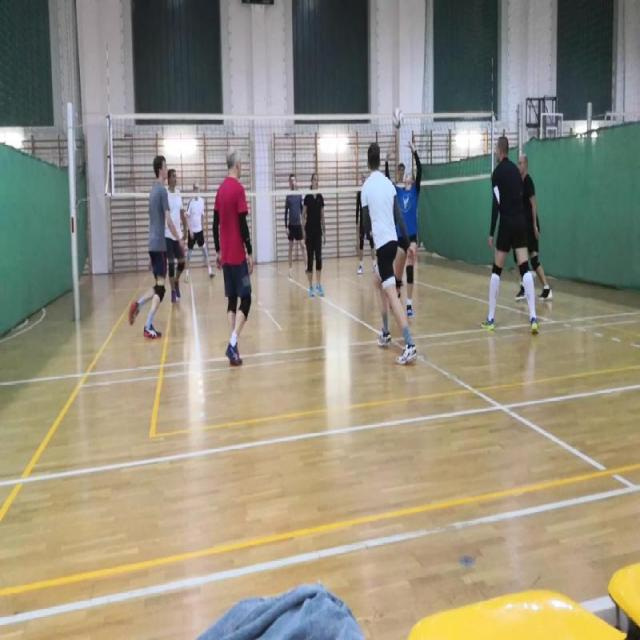volleyball: (391, 108, 403, 129)
